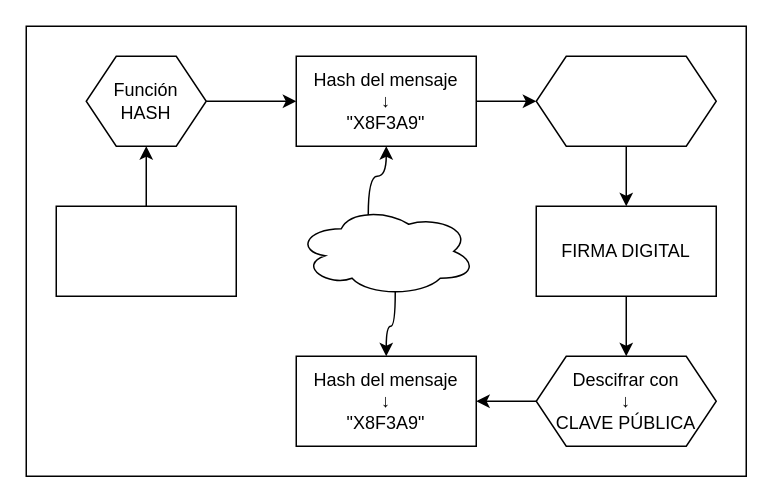
Some shapes in this 773 by 503 pixel diagram are drawn without their labels. Each missing label, with the box of its shape:
Cifrar con ↓ CLAVE PRIVADA: (535, 55, 716, 146)
Mensaje original ↓ "Hola, mundo!": (55, 205, 236, 296)
¿Coinciden?: (295, 205, 476, 296)
